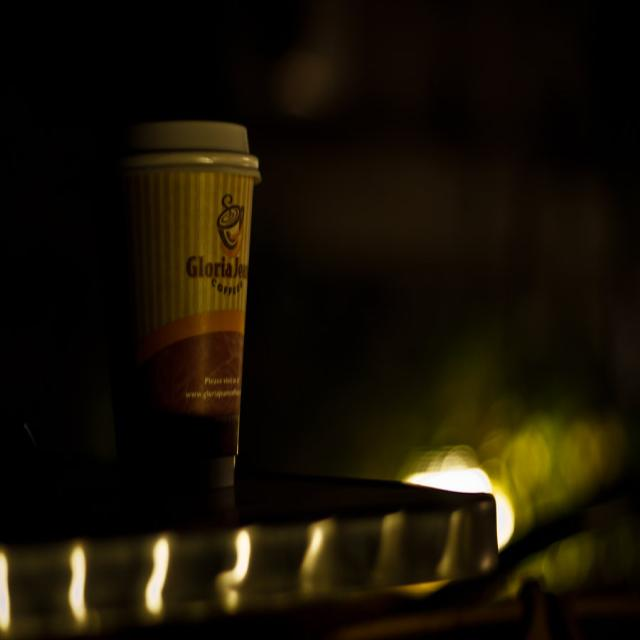Cup: (105, 79, 260, 505)
